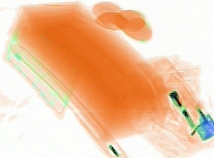lighter: (137, 53, 213, 140)
